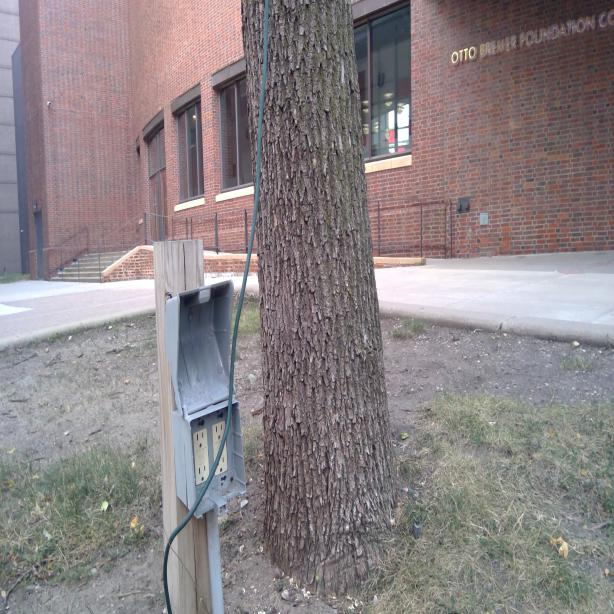typeb: (193, 427, 207, 451), (195, 460, 208, 484), (211, 421, 223, 444), (218, 455, 225, 473)
